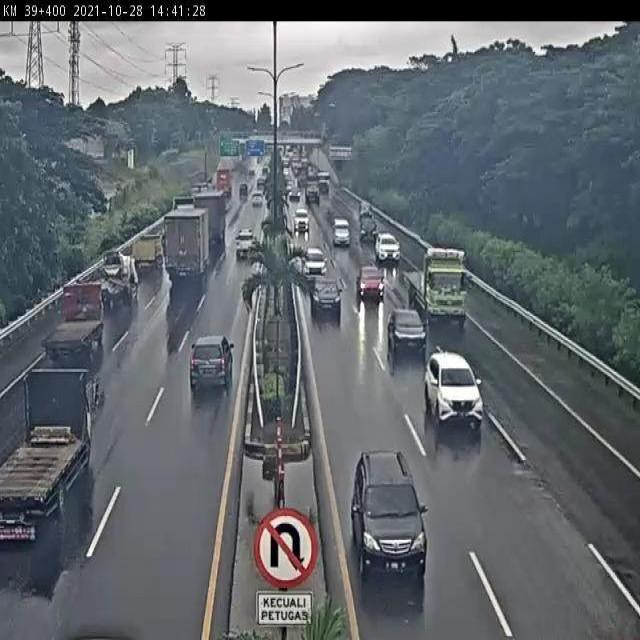car: (349, 451, 427, 577), (423, 351, 484, 429), (188, 334, 233, 390), (385, 309, 427, 360), (309, 277, 342, 319), (356, 265, 385, 303), (375, 232, 402, 263), (302, 247, 327, 277), (234, 229, 257, 259)
mid truck: (403, 245, 468, 323), (163, 208, 210, 277)
small truck: (133, 233, 163, 268)
truck-m-: (0, 367, 103, 540), (41, 283, 104, 364), (97, 249, 139, 308)
